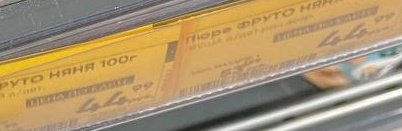1d: (179, 49, 321, 101)
